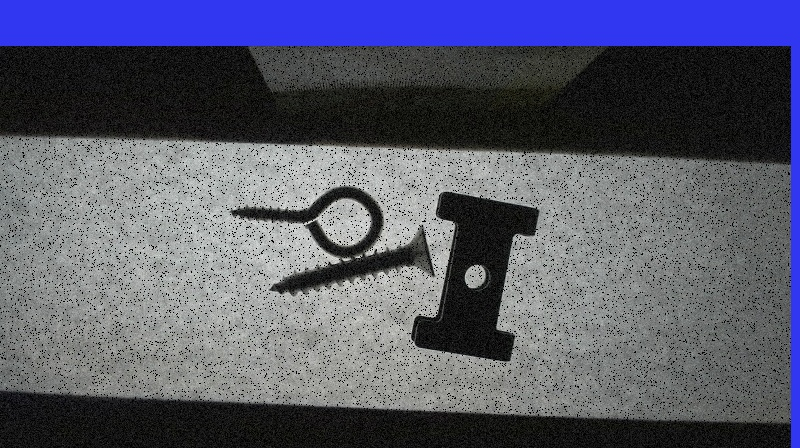O001: (225, 181, 386, 260)
O002: (406, 189, 542, 363)
S001: (262, 224, 435, 296)
